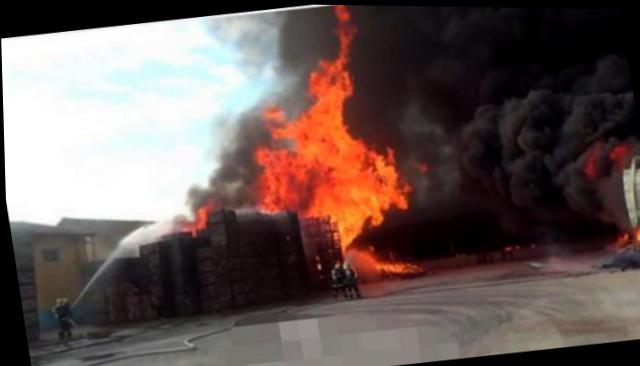fire: (286, 105, 360, 213), (350, 136, 402, 213), (252, 144, 297, 210), (304, 51, 348, 110), (329, 4, 353, 53), (332, 208, 364, 244), (367, 254, 419, 273), (262, 102, 290, 137), (348, 244, 375, 277), (177, 204, 205, 231), (630, 220, 639, 244)
